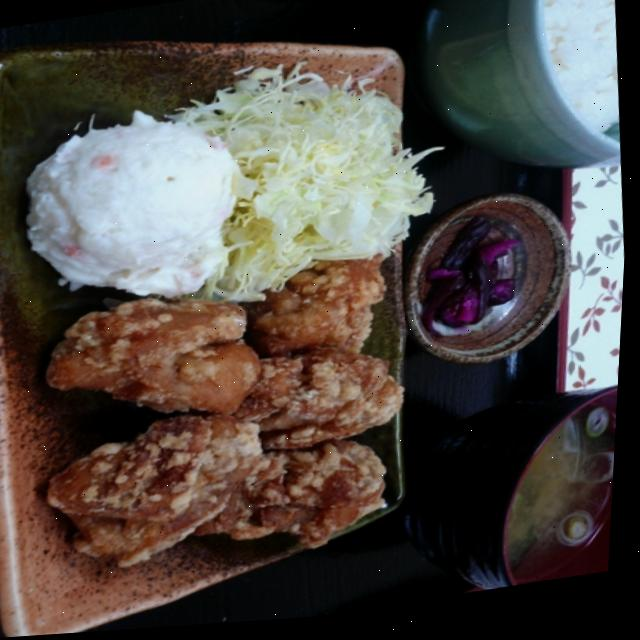鸡肉料理 含炸鸡: (55, 269, 400, 559)
